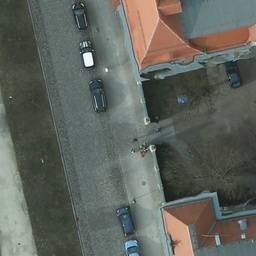car: (89, 79, 108, 112), (78, 40, 96, 72), (223, 63, 244, 90), (73, 2, 89, 32), (118, 206, 131, 232)
